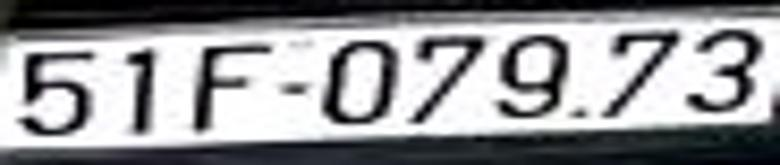-: (279, 82, 305, 94)
.: (573, 109, 584, 117)
0: (322, 42, 396, 123)
1: (128, 52, 153, 134)
3: (691, 28, 760, 114)
5: (20, 50, 93, 137)
7: (609, 35, 676, 121), (413, 38, 480, 122)
9: (499, 38, 565, 117)
F: (196, 47, 266, 129)
